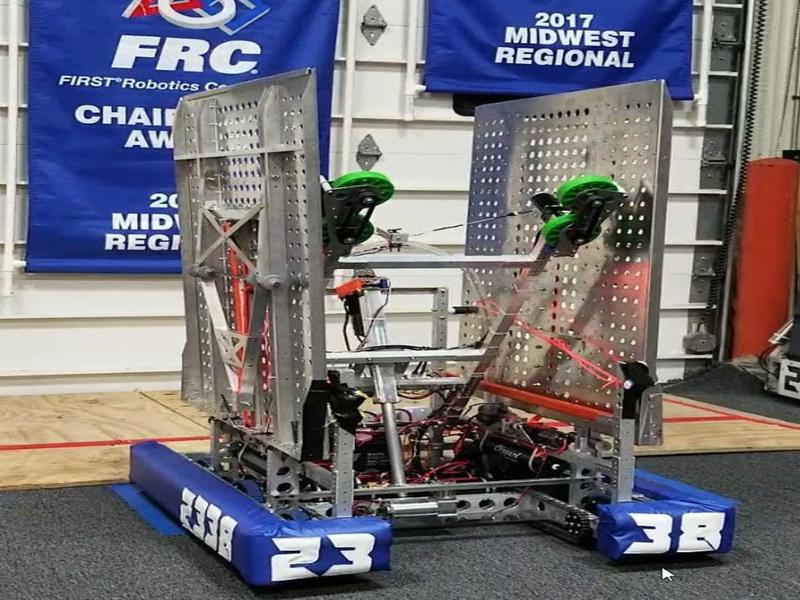robot: (136, 81, 732, 581)
